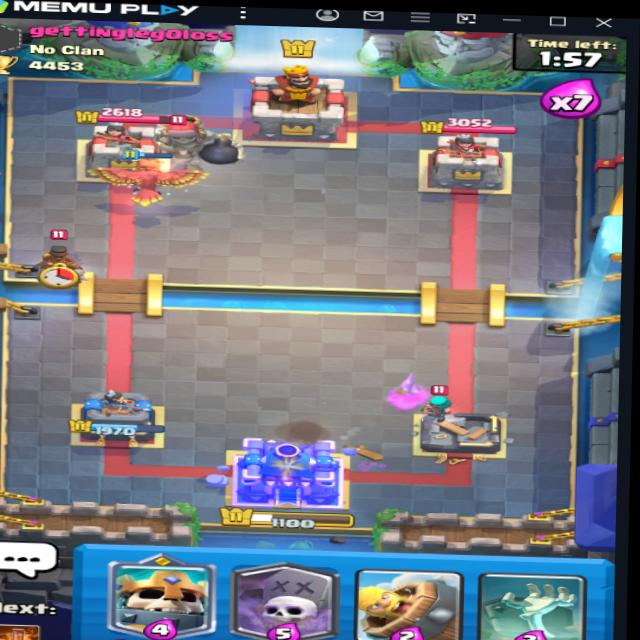giant-skeleton: (134, 104, 248, 175)
ram-rider: (25, 226, 98, 289)
rascal-girl: (422, 383, 463, 418)
